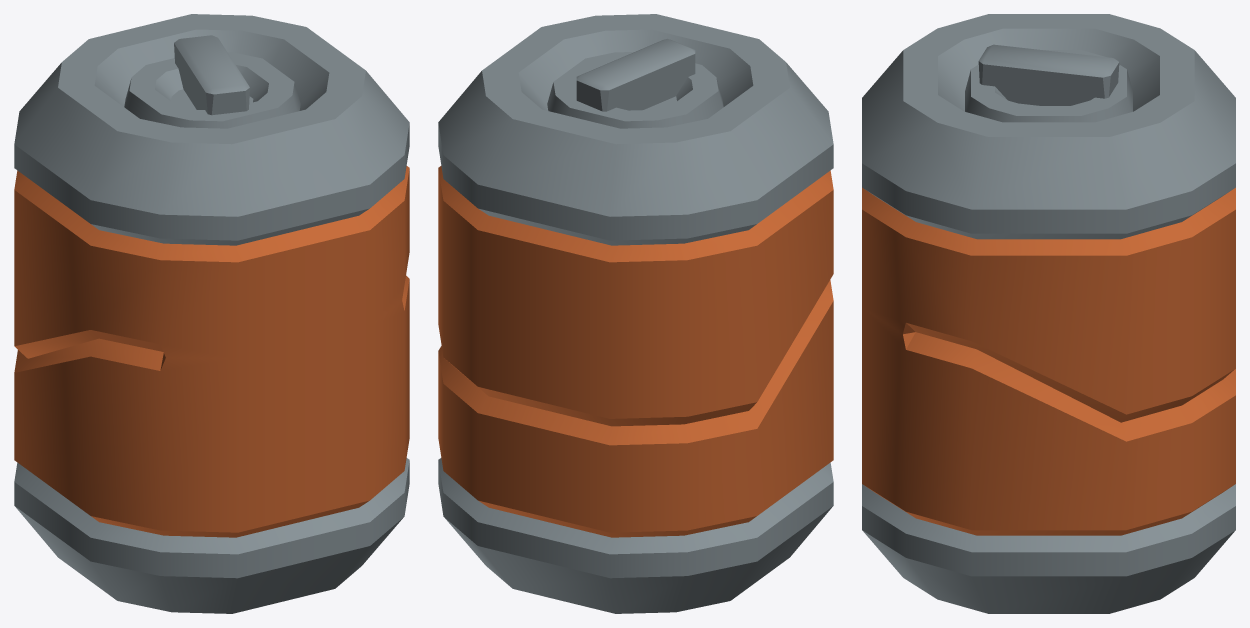
File: fuel_canisterB.gltf.glb
The picture shows the model from 3 angles, left to right: view 1: azimuth 30°, elevation 25°; view 2: azimuth 150°, elevation 25°; view 3: azimuth 270°, elevation 25°; orthographic projection.
Visible parts, largest first — view 1: fuel_canisterB; view 2: fuel_canisterB; view 3: fuel_canisterB.
Boxes of the visible parts, x1,y1,x2,y2 form: fuel_canisterB: [14, 14, 409, 613]; fuel_canisterB: [438, 14, 833, 613]; fuel_canisterB: [862, 14, 1235, 613].
Bounding box in the file's own units: 0.7837 × 1.14 × 0.7837.
